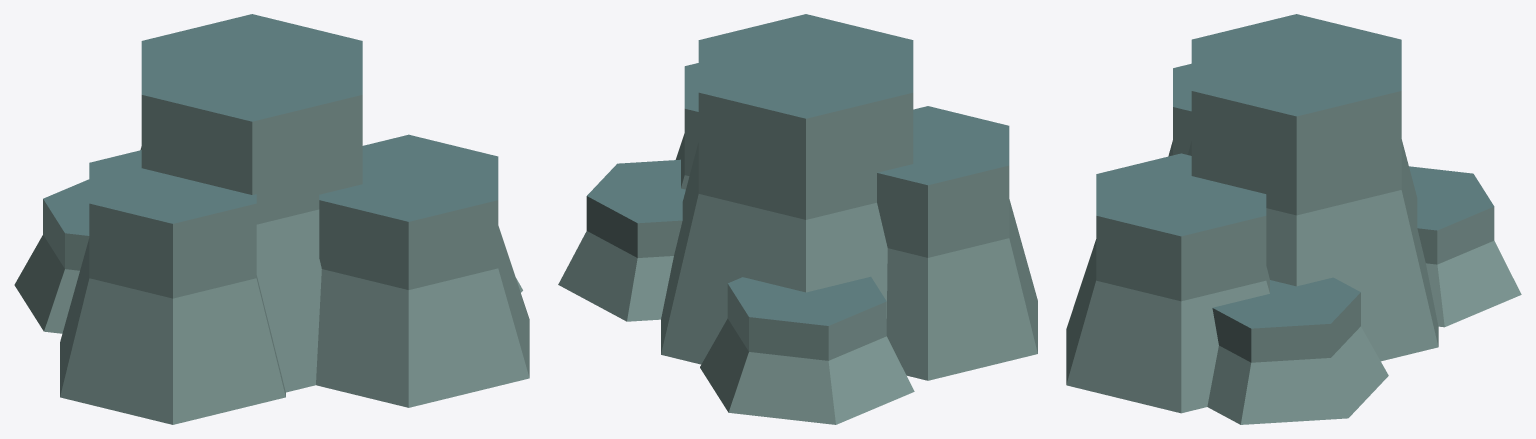
File: rock_largeA.glb
The picture shows the model from 3 angles, left to right: view 1: azimuth 30°, elevation 25°; view 2: azimuth 150°, elevation 25°; view 3: azimuth 270°, elevation 25°; orthographic projection. The views are drawn at different scales.
Parts seen in each view (by area): view 1: rock_largeA; view 2: rock_largeA; view 3: rock_largeA.
Boxes of the visible parts, left/top/right/bottom form: rock_largeA: left=14, top=14, right=529, bottom=424; rock_largeA: left=558, top=14, right=1037, bottom=424; rock_largeA: left=1066, top=14, right=1521, bottom=424.
Size of the model in its own units: 0.9193 by 0.5 by 0.8339.
